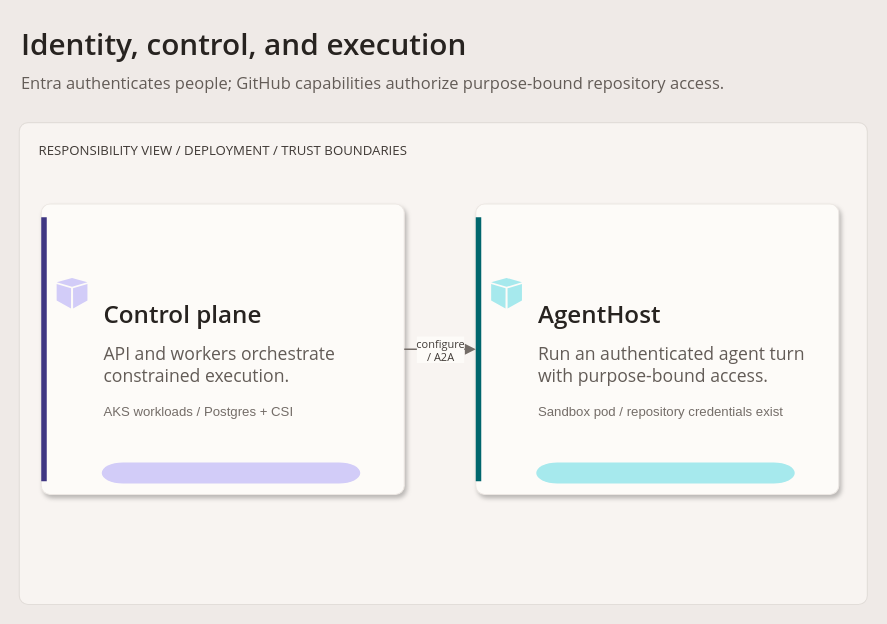
Image size: 887x624. Some labels were removed from this diagram. The shapes that lost their labels are listed below. From the top down, each one's centre as x and y in pixels, then its label:
At [230,472]: "CONTROL".
At [665,472]: "EXECUTION".
